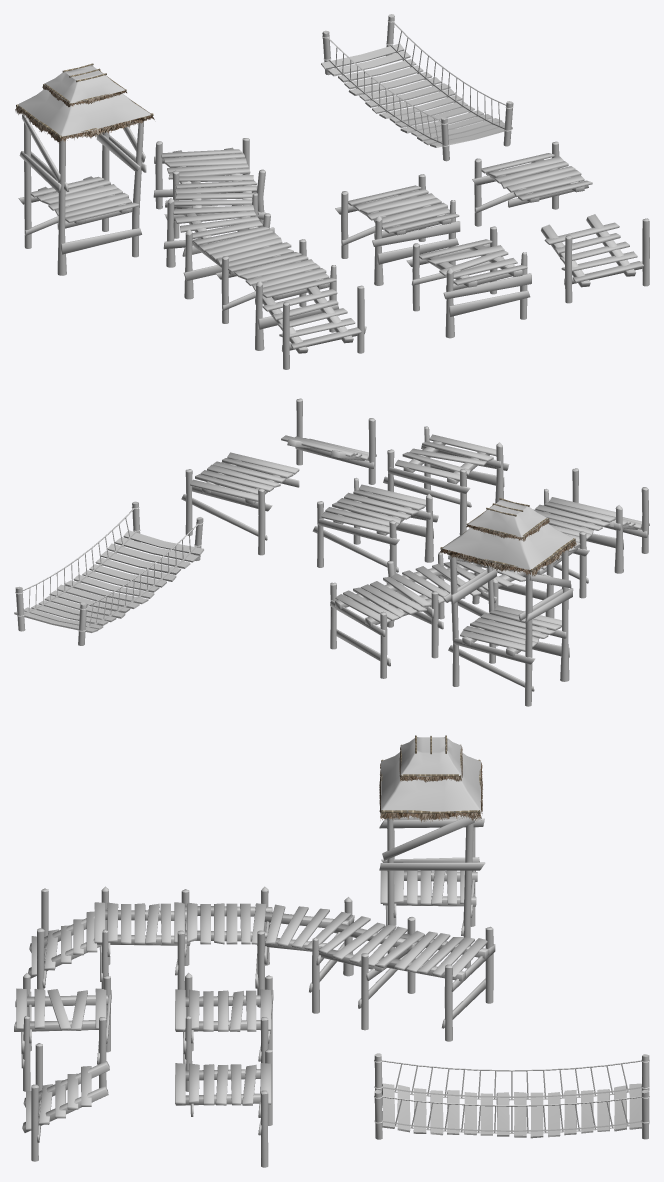
File: dock.fbx
The picture shows the model from 3 angles, top to bottom: view 1: azimuth 30°, elevation 25°; view 2: azimuth 150°, elevation 25°; view 3: azimuth 270°, elevation 25°; orthographic projection. The views are drawn at different scales.
Visible parts, largest first — view 1: ropebridge, roof:hut1_Layer1, cylinder21, cylinder20, cube151, cube106, cylinder22, cube102, cube122, cube150, cube108, cylinder17 (+4 smaller); view 2: ropebridge, roof:hut1_Layer1, cylinder22, cylinder21, cylinder23, cube99, cube147, cube134, cube129, cube162, cube174, cube160 (+25 smaller); view 3: ropebridge, roof:hut1_Layer1, cube135, cube139, cylinder23, cylinder20, cube137, cylinder11.
Part boxes in pixels (left/top/right/bottom): ropebridge: left=321, top=14, right=513, bottom=161; roof:hut1_Layer1: left=15, top=63, right=154, bottom=143; cylinder21: left=57, top=140, right=66, bottom=275; cylinder20: left=132, top=121, right=143, bottom=257; cube151: left=372, top=221, right=460, bottom=246; cube106: left=443, top=273, right=531, bottom=299; cylinder22: left=24, top=115, right=31, bottom=248; cube102: left=449, top=290, right=530, bottom=316; cube122: left=61, top=228, right=141, bottom=254; cube150: left=377, top=238, right=458, bottom=264; cube108: left=586, top=214, right=635, bottom=276; cylinder17: left=642, top=218, right=649, bottom=286; ropebridge: left=14, top=501, right=203, bottom=645; roof:hut1_Layer1: left=439, top=498, right=576, bottom=576; cylinder22: left=525, top=571, right=532, bottom=706; cylinder21: left=560, top=550, right=569, bottom=681; cylinder23: left=450, top=555, right=459, bottom=686; cube99: left=388, top=467, right=470, bottom=493; cube147: left=317, top=518, right=399, bottom=545; cube134: left=453, top=638, right=535, bottom=664; cube129: left=448, top=645, right=534, bottom=691; cube162: left=181, top=494, right=267, bottom=540; cube174: left=190, top=479, right=258, bottom=501; cube160: left=321, top=511, right=389, bottom=533; ropebridge: left=374, top=1053, right=649, bottom=1139; roof:hut1_Layer1: left=379, top=735, right=482, bottom=822; cube135: left=379, top=862, right=485, bottom=870; cube139: left=382, top=816, right=474, bottom=860; cylinder23: left=463, top=823, right=473, bottom=968; cylinder20: left=387, top=818, right=394, bottom=953; cube137: left=379, top=818, right=484, bottom=828; cylinder11: left=444, top=964, right=452, bottom=1041.
Size of the model in its own units: 24.15 by 9.03 by 25.65.
